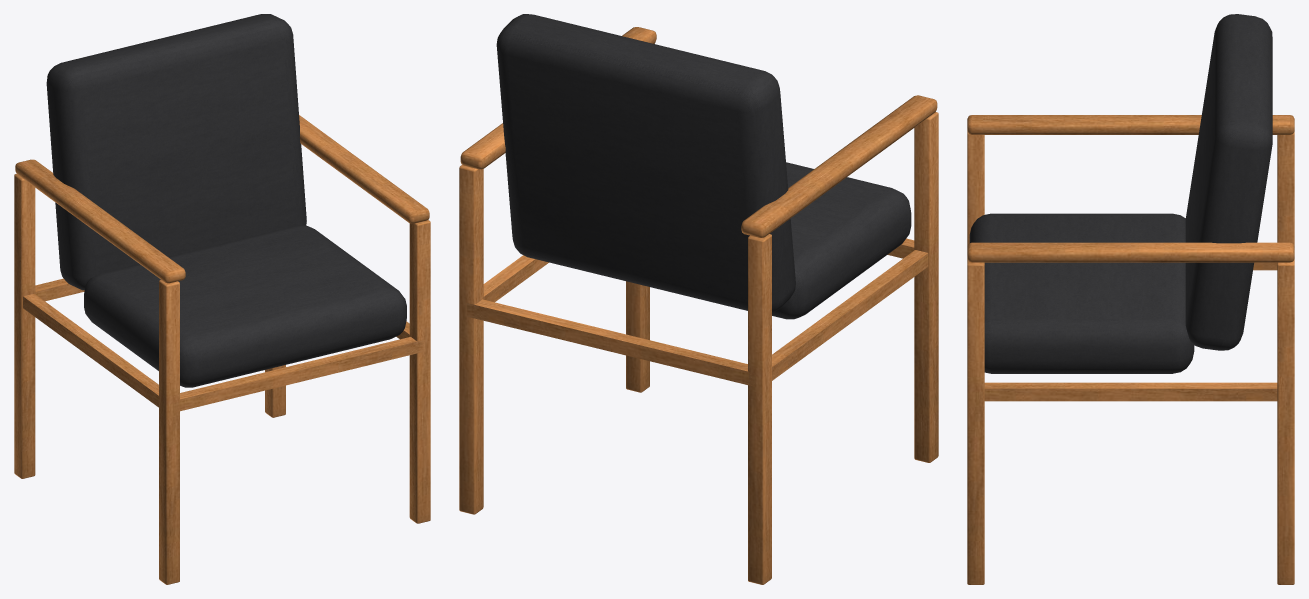
File: seating.visitor-chair.glb
The picture shows the model from 3 angles, left to right: view 1: azimuth 30°, elevation 25°; view 2: azimuth 150°, elevation 25°; view 3: azimuth 270°, elevation 25°; orthographic projection. The views are drawn at different scales.
Parts seen in each view (by area): view 1: seating.visitor-chair.001; view 2: seating.visitor-chair.001; view 3: seating.visitor-chair.001.
Part boxes in pixels (box(x1,y1,x2,y2)): seating.visitor-chair.001: box(14, 14, 430, 584); seating.visitor-chair.001: box(459, 14, 938, 584); seating.visitor-chair.001: box(967, 14, 1294, 584).
Size of the model in its own units: 0.56 by 0.8451 by 0.56.
Materials: 2 (2 with a texture image).
